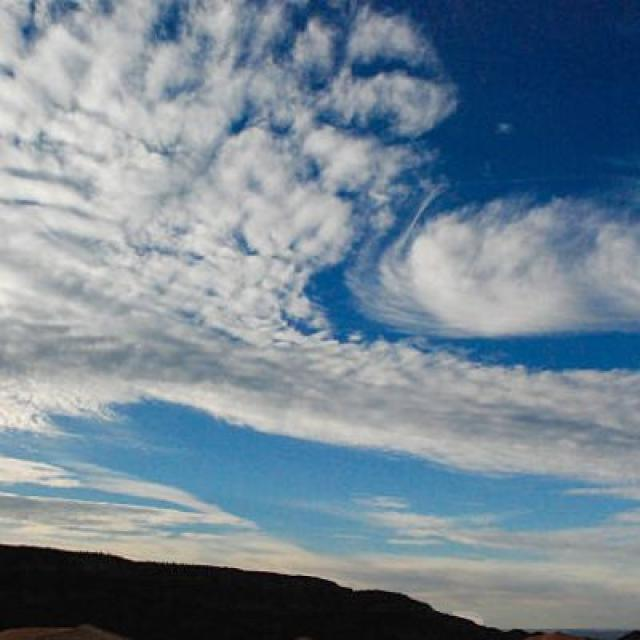St: (348, 171, 640, 378)
